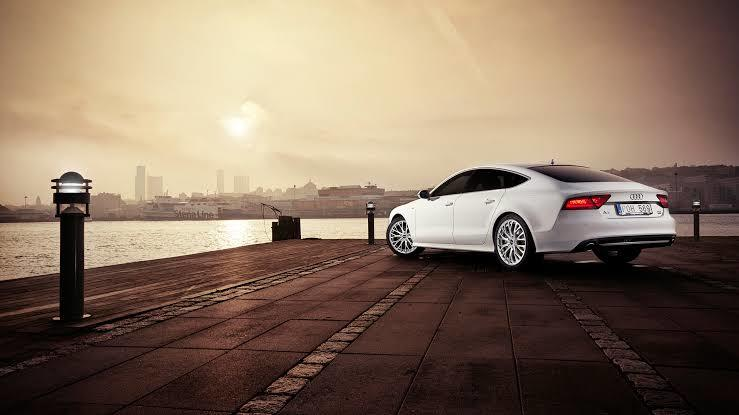audi: (383, 153, 679, 271)
